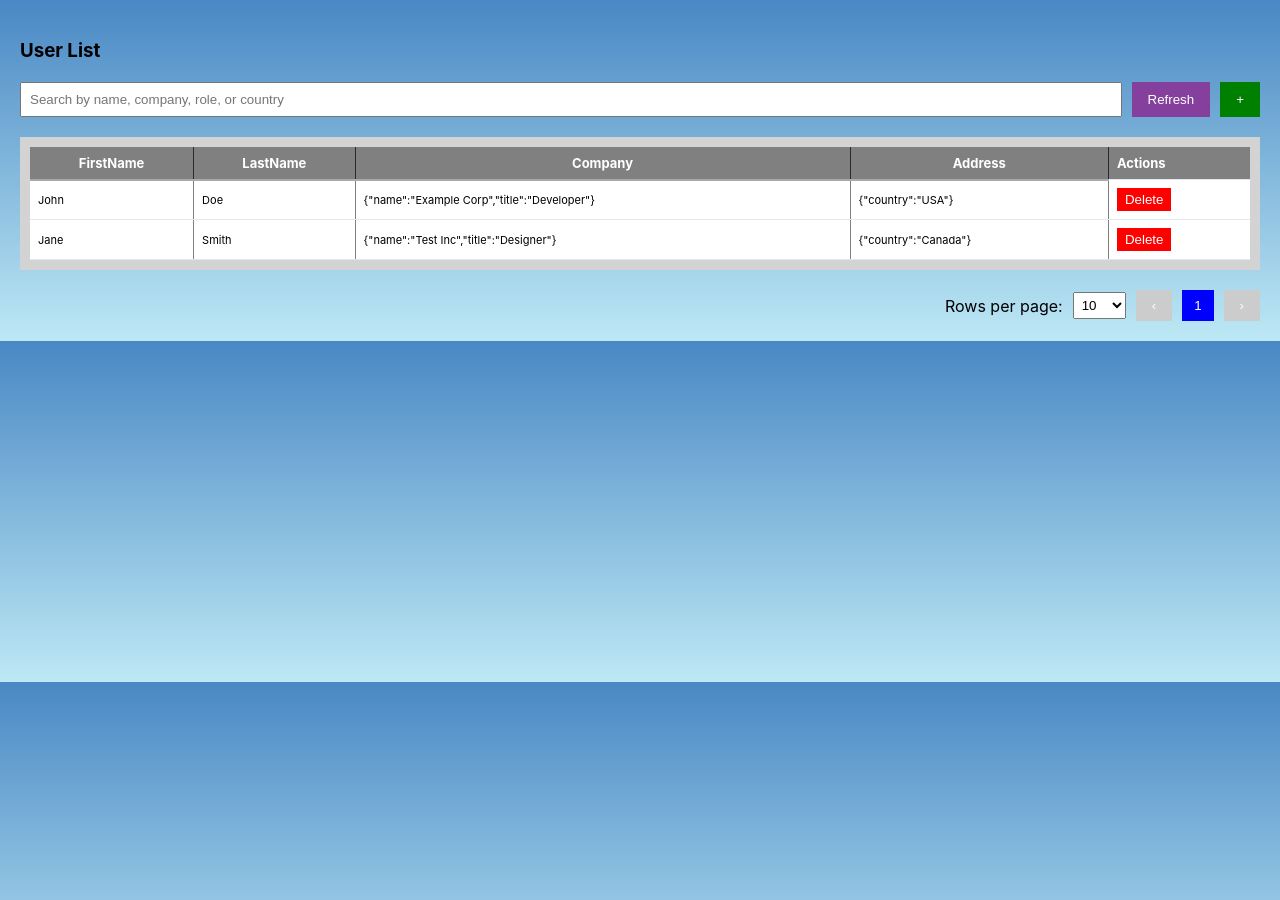
it: filters users based on search term
Expected: the text "John" is shown, [30,180,194,220]
In the field with placeholder "Search by name, company, role, or country": (571, 99) [20,82,1122,117], type "John"
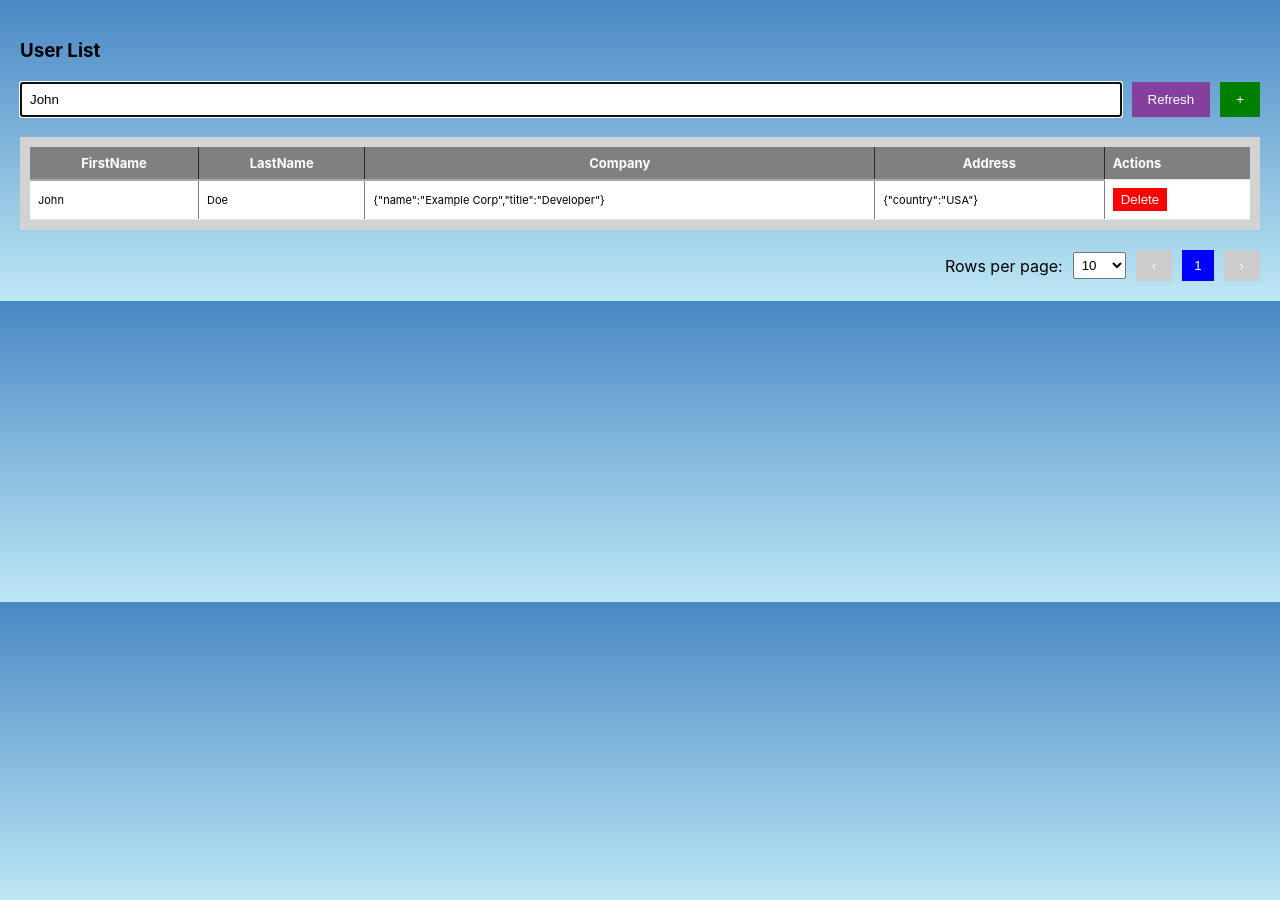
Expected: the text "John" is shown, [30,180,198,220]
Result: the text "Jane" is gone
